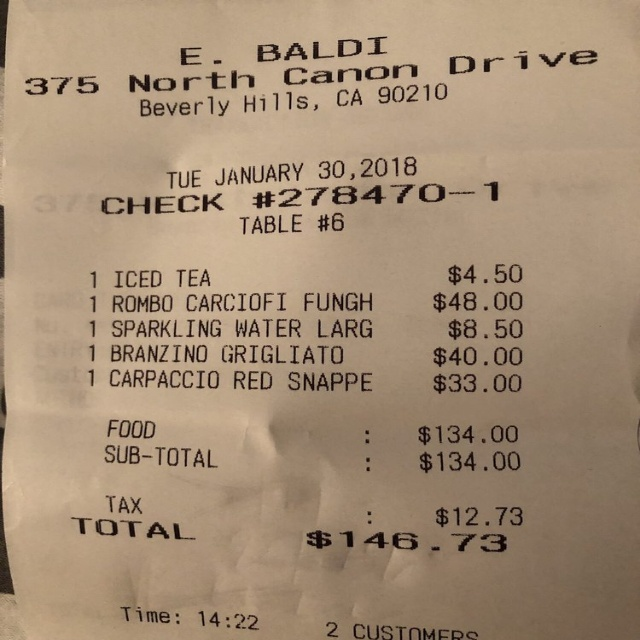invoice_table: (88, 264, 524, 393)
invoice_title: (26, 35, 598, 117)
invoice_total: (74, 517, 508, 555)
